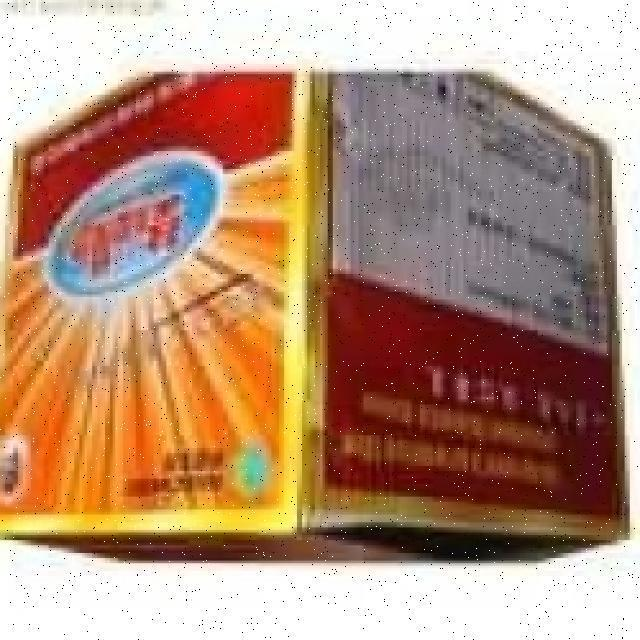box: (0, 46, 635, 592)
